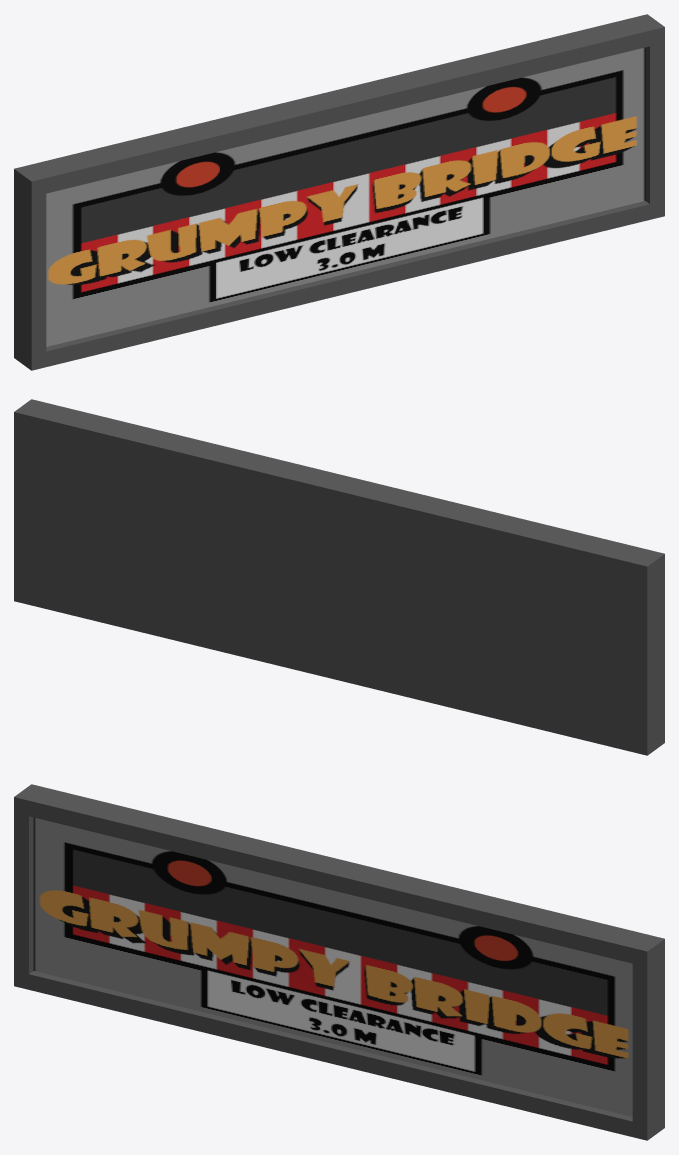
The model's file is mediumbillboardV2.fbx.
3 renders of one model, top to bottom at view 1: azimuth 30°, elevation 25°; view 2: azimuth 150°, elevation 25°; view 3: azimuth 330°, elevation 25°, orthographic.
Parts seen in each view (by area): view 1: pCube1; view 2: pCube1; view 3: pCube1.
Boxes of the visible parts, box(x1,y1,x2,y2) form: pCube1: box(14, 14, 664, 370); pCube1: box(14, 399, 664, 755); pCube1: box(14, 784, 664, 1140).
Size of the model in its own units: 840 by 240 by 40.29.
